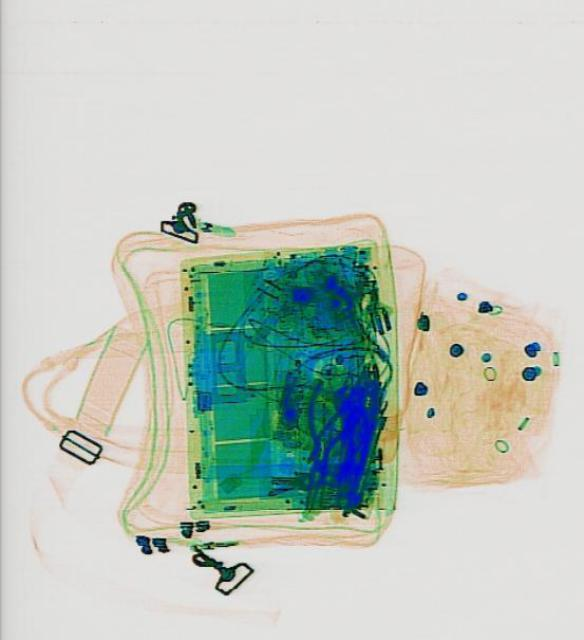Pliers: (286, 376, 364, 492), (294, 376, 344, 464)
